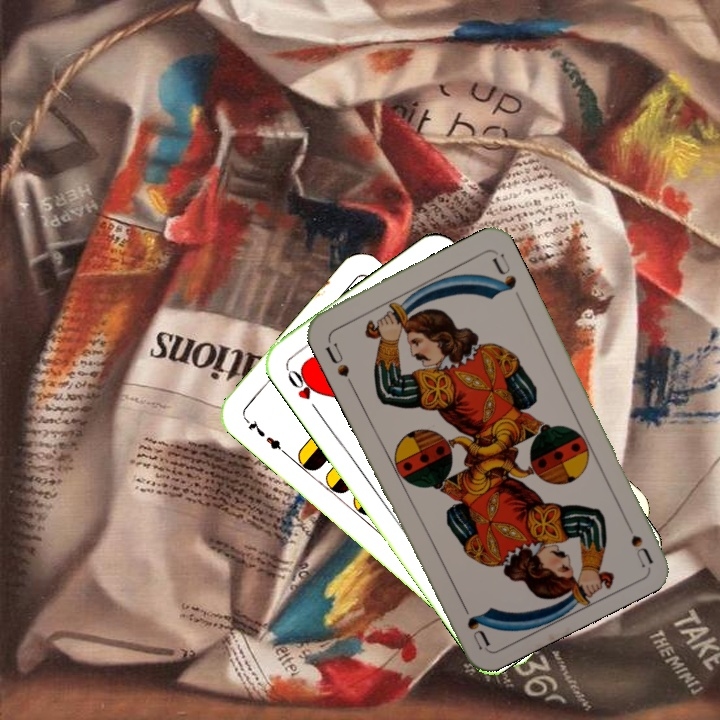E7: (240, 414, 289, 457)
HO: (282, 364, 323, 416)
SU: (618, 511, 655, 568), (321, 339, 356, 389)
